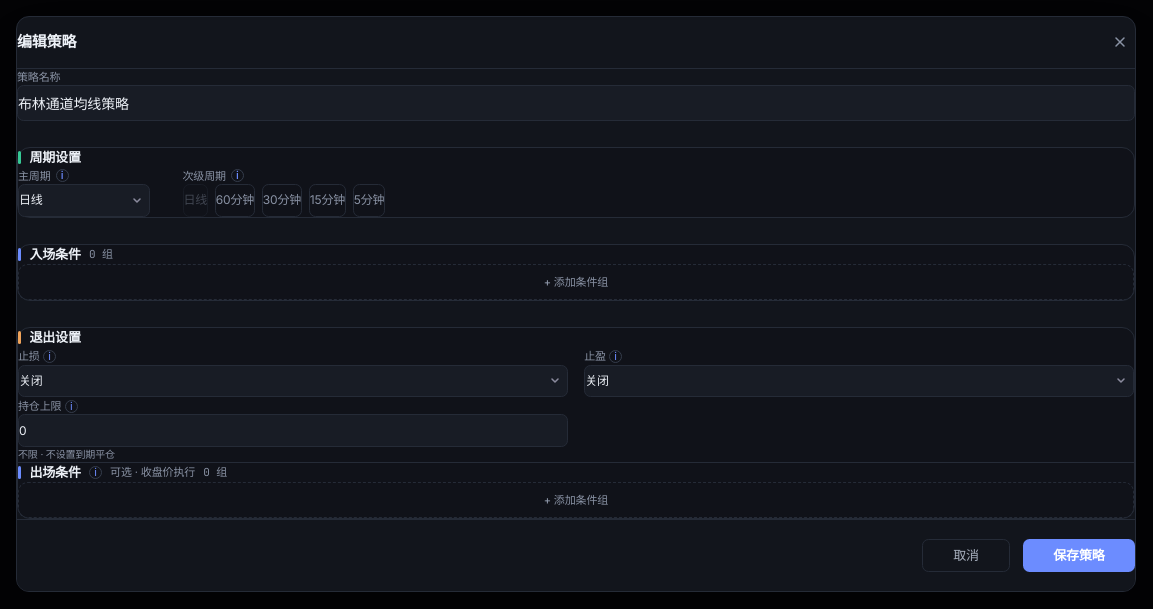
Test: TemplateEditor 保存 404 › 给出中文提示并刷新列表，不再暴露后端的英文文案
Click the button "保存策略". click: (1079, 556)
box: [1023,539,1135,572]
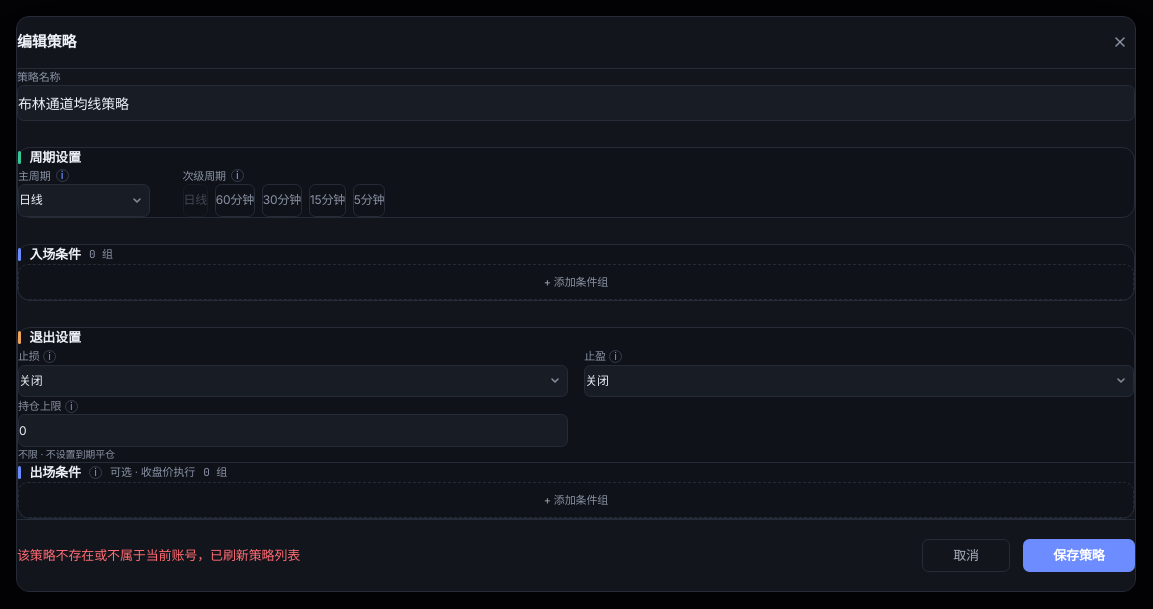
Check: the heading "编辑策略" is shown, box [17,31,76,54]
Check: the text "该策略不存在或不属于当前账号，已刷新策略列表" is shown, box [17,547,300,563]
